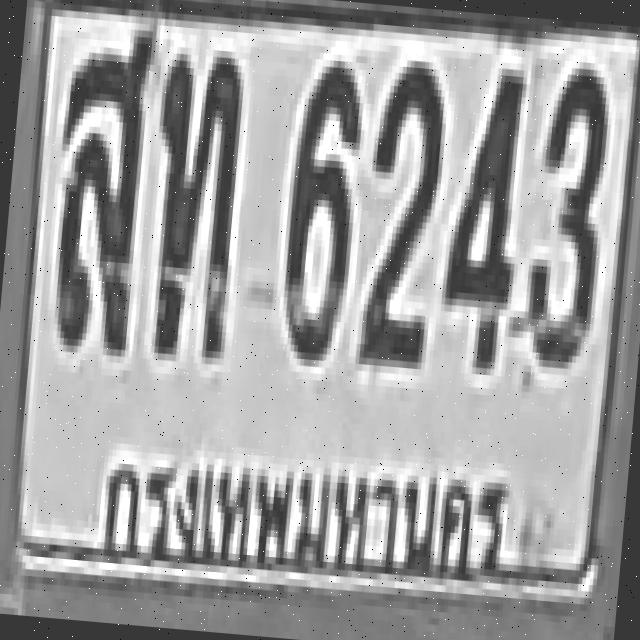2: (356, 54, 448, 366)
3: (518, 59, 610, 364)
32ThorThaHan: (140, 46, 246, 358)
4: (436, 58, 528, 369)
49SorSuea: (44, 18, 154, 350)
6: (274, 58, 362, 362)
Bangkok: (91, 426, 522, 591)
